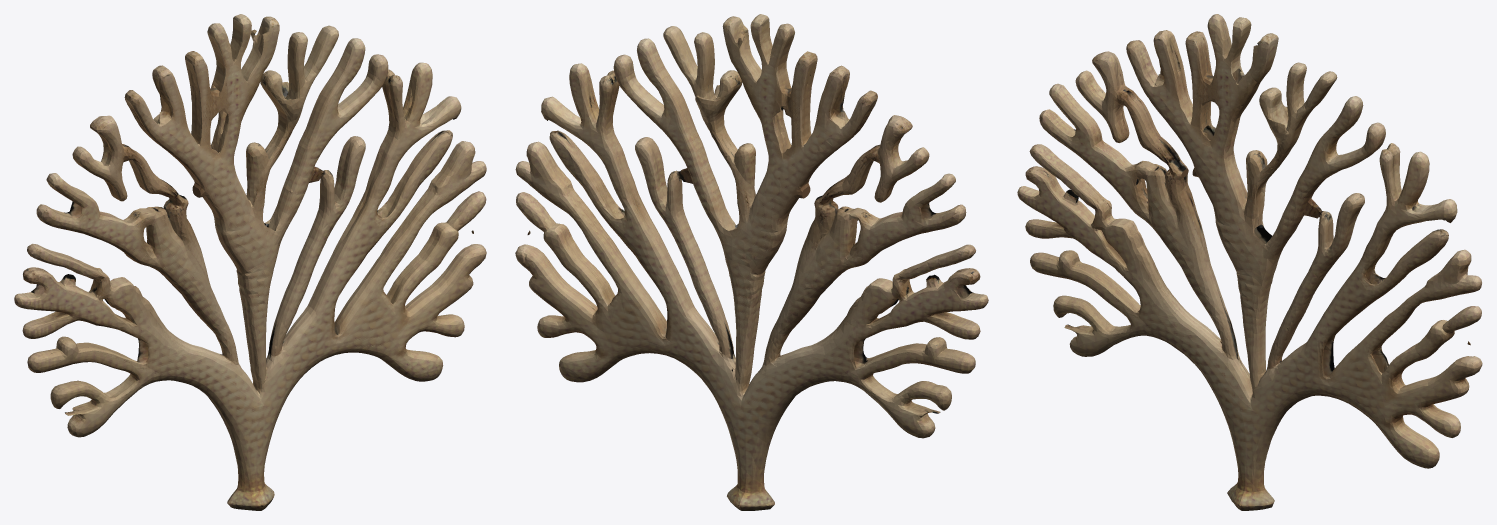
3 renders of one model, left to right at view 1: azimuth 30°, elevation 25°; view 2: azimuth 150°, elevation 25°; view 3: azimuth 330°, elevation 25°, orthographic.
Parts seen in each view (by area): view 1: EXISTING_UNEXPORTED_PREVIEW; view 2: EXISTING_UNEXPORTED_PREVIEW; view 3: EXISTING_UNEXPORTED_PREVIEW.
Boxes of the visible parts, x1=… form: EXISTING_UNEXPORTED_PREVIEW: x1=14, y1=14, x2=486, y2=510; EXISTING_UNEXPORTED_PREVIEW: x1=515, y1=14, x2=988, y2=510; EXISTING_UNEXPORTED_PREVIEW: x1=1017, y1=14, x2=1482, y2=510.
Size of the model in its own units: 0.9938 by 1 by 0.0842.
1 material, 1 textured.
